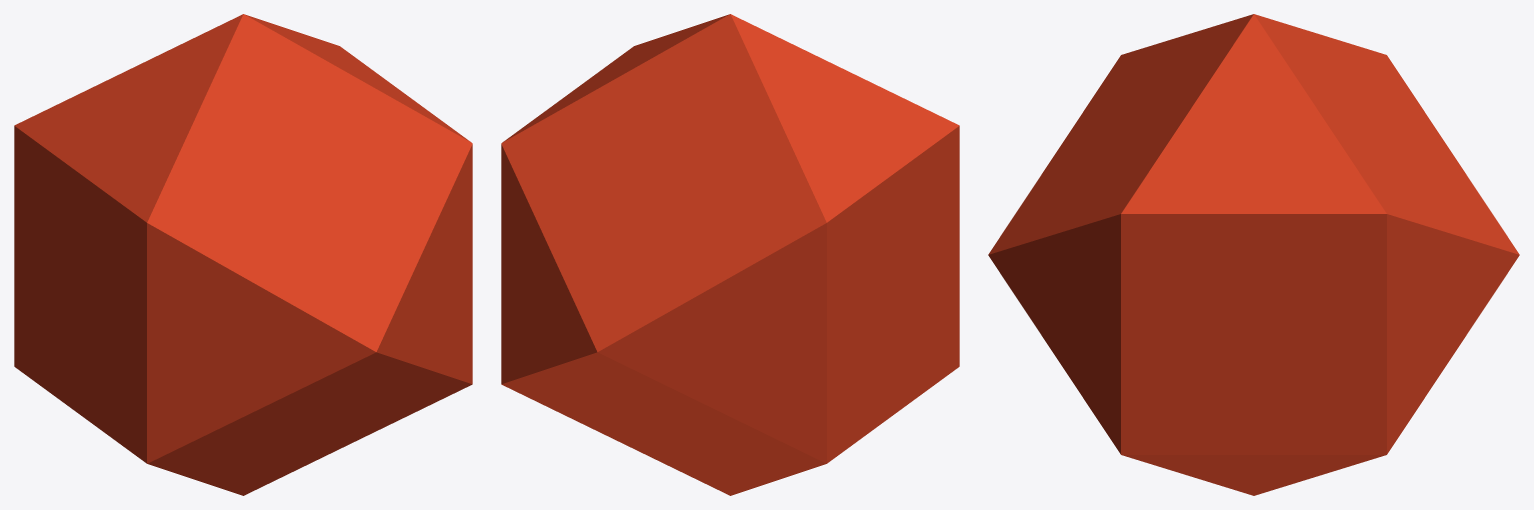
3 renders of one model, left to right at view 1: azimuth 30°, elevation 25°; view 2: azimuth 150°, elevation 25°; view 3: azimuth 270°, elevation 25°, orthographic.
Visible parts, largest first — view 1: Hedra001; view 2: Hedra001; view 3: Hedra001.
Boxes of the visible parts, x1,y1,x2,y2 form: Hedra001: [14, 14, 472, 495]; Hedra001: [501, 14, 959, 495]; Hedra001: [988, 14, 1519, 495].
Bounding box in the file's own units: 7.07 × 10 × 10.
